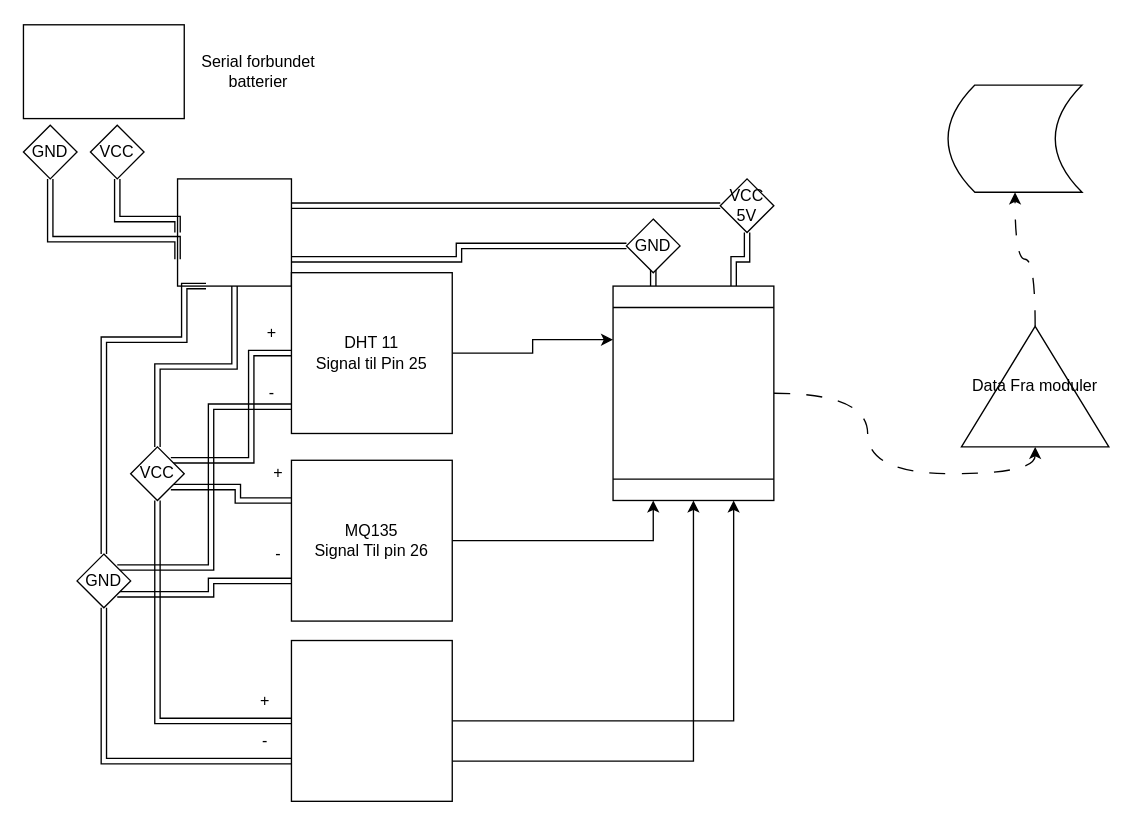
This 1132x825 diagram has some shape labels left out. The shapes that lost their labels are listed below. From the top down, each one's box as (x1, y1, x2, y2) in pixels, then its label:
(22, 23, 184, 119): LiPo batteri 3-4.2 V 3.7 V gennemsnit 1800mAh x2
(947, 84, 1082, 192): RPI Server Side
(176, 178, 291, 286): LDO Reducer serial forbundet batteri til 5 volt
(612, 285, 774, 500): ESP32
(290, 639, 452, 801): GPS RX Pin 16 TX pin 17
